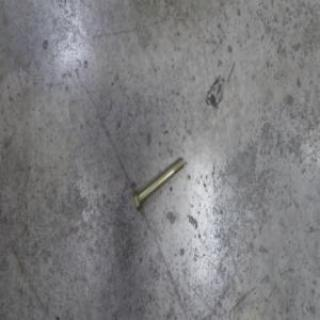Bolttrack_idkeyframe: (131, 152, 185, 213)
